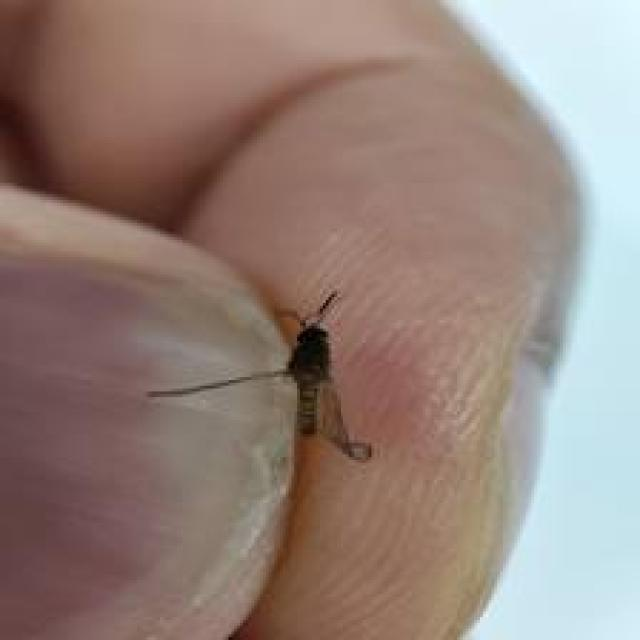Culex: (146, 287, 374, 464)
